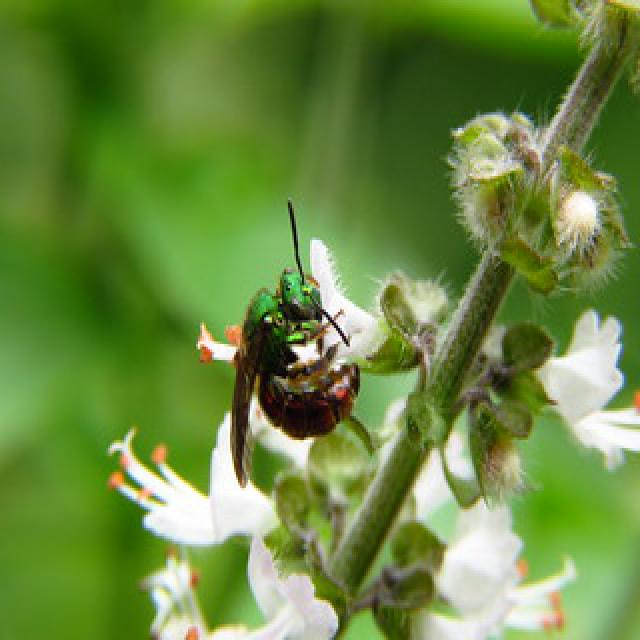Abeille: (205, 193, 370, 492)
